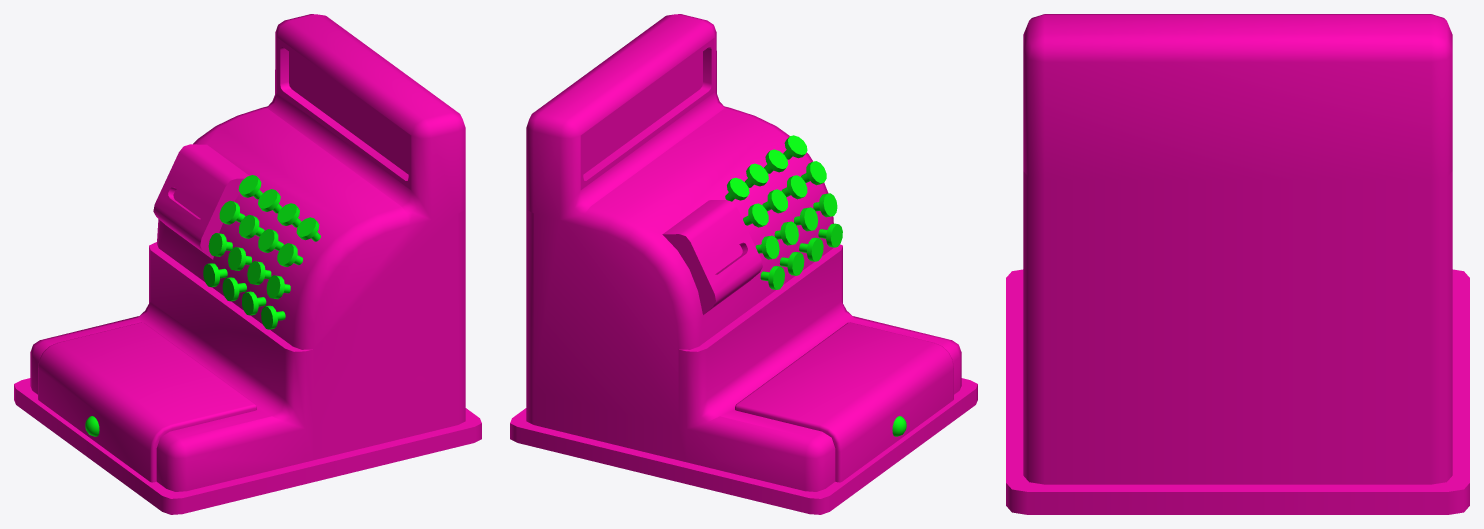
File: Caisse.fbx
3 renders of one model, left to right at view 1: azimuth 30°, elevation 25°; view 2: azimuth 150°, elevation 25°; view 3: azimuth 270°, elevation 25°, orthographic. The views are drawn at different scales.
Visible parts, largest first — view 1: Box001, Box002; view 2: Box001, Box002; view 3: Box001.
Boxes of the visible parts, left/top/right/bottom form: Box001: left=14, top=14, right=481, bottom=514; Box002: left=85, top=175, right=320, bottom=436; Box001: left=510, top=14, right=977, bottom=514; Box002: left=725, top=135, right=906, bottom=436; Box001: left=1006, top=14, right=1469, bottom=514.
Size of the model in its own units: 0.6195 by 0.5973 by 0.54.
